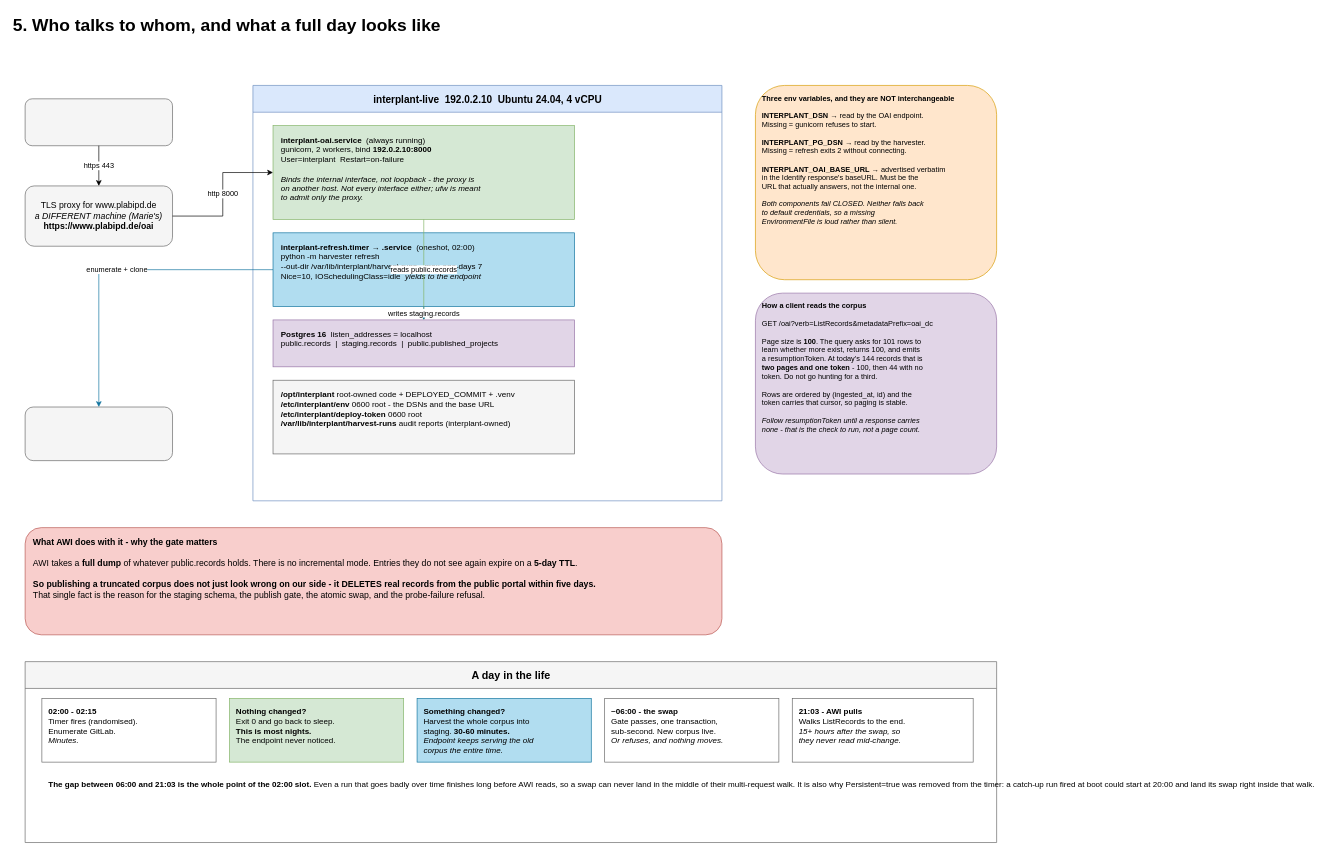
Image size: 1326x854. Some labels were removed from this diagram. The centre of each missing label's shape, as x and y in pixels:
AWI portal harvester pulls nightly at 21:03: pixel 98 122
git.nfdi4plants.org DataPLANT GitLab - the source of ARCs: pixel 98 433
